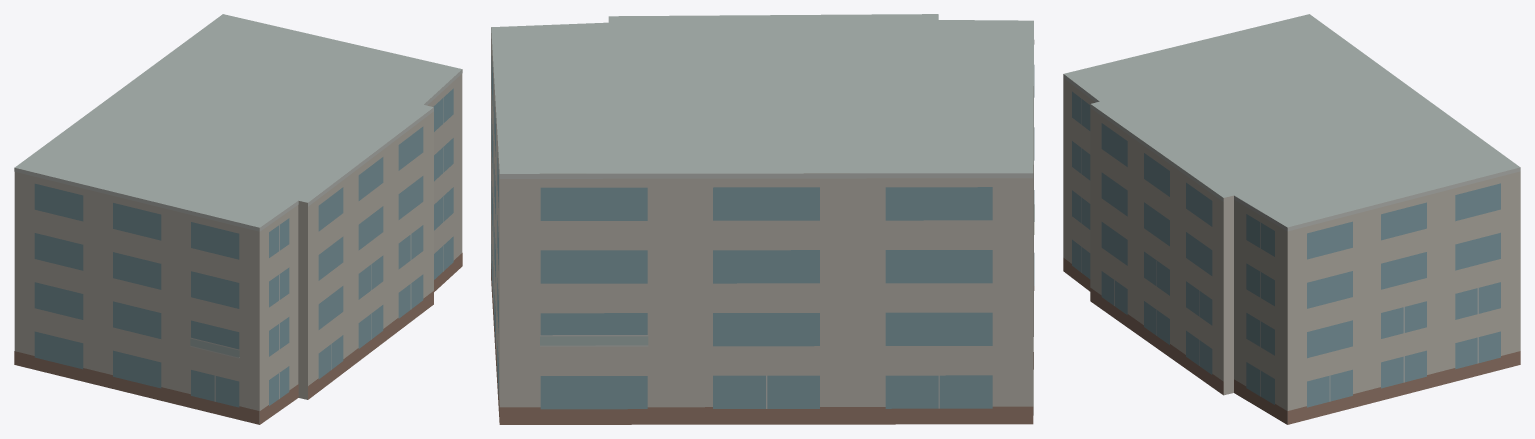
The model's file is survey-upis-32762811.glb.
The picture shows the model from 3 angles, left to right: view 1: azimuth 30°, elevation 25°; view 2: azimuth 150°, elevation 25°; view 3: azimuth 270°, elevation 25°; orthographic projection. The views are drawn at different scales.
Visible parts, largest first — view 1: survey-upis-32762811.tmp; view 2: survey-upis-32762811.tmp; view 3: survey-upis-32762811.tmp.
Part boxes in pixels (box(x1,y1,x2,y2)): survey-upis-32762811.tmp: box(14, 14, 462, 424); survey-upis-32762811.tmp: box(491, 14, 1034, 424); survey-upis-32762811.tmp: box(1063, 14, 1520, 424).
Bounding box in the file's own units: 27.84 × 12 × 25.19.
